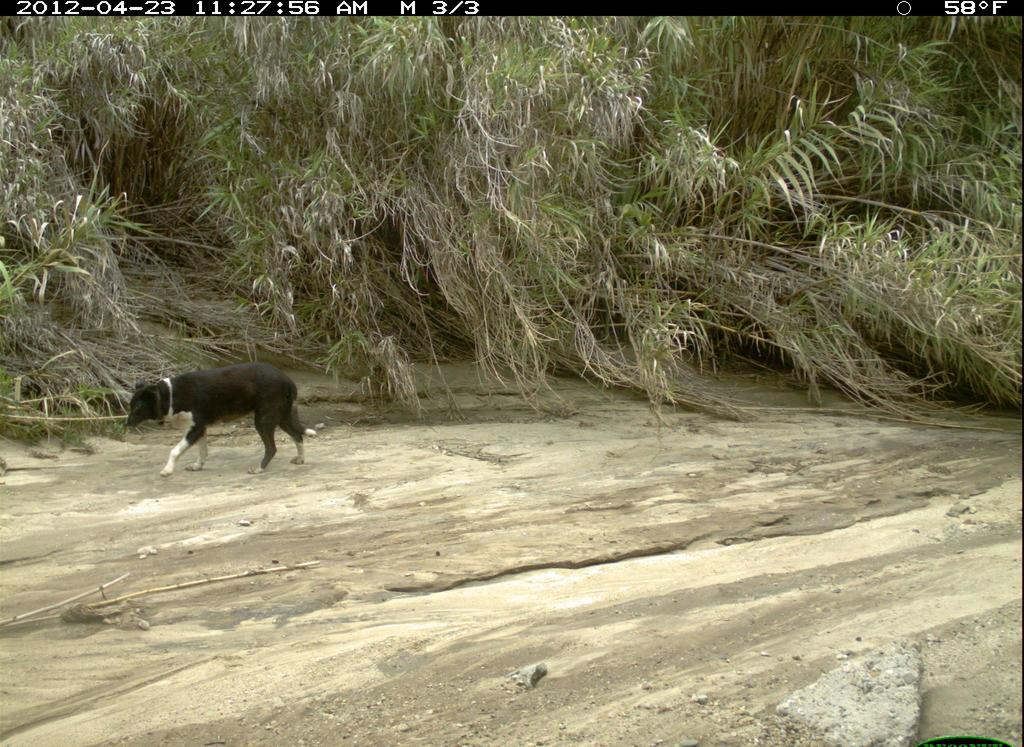dog: (116, 360, 337, 478)
